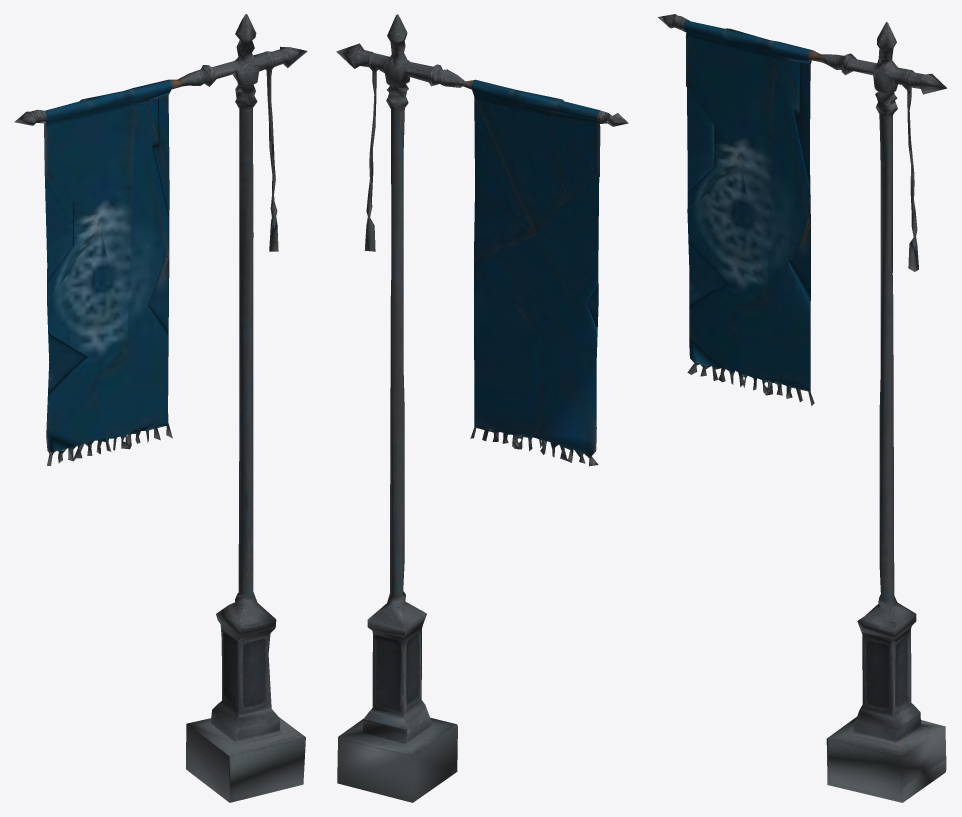
Rendered from banner.glb.
3 renders of one model, left to right at view 1: azimuth 30°, elevation 25°; view 2: azimuth 150°, elevation 25°; view 3: azimuth 330°, elevation 25°, orthographic.
Bounding box in the file's own units: 0.7619 × 1.9 × 0.2001.
1 material, 1 textured.
